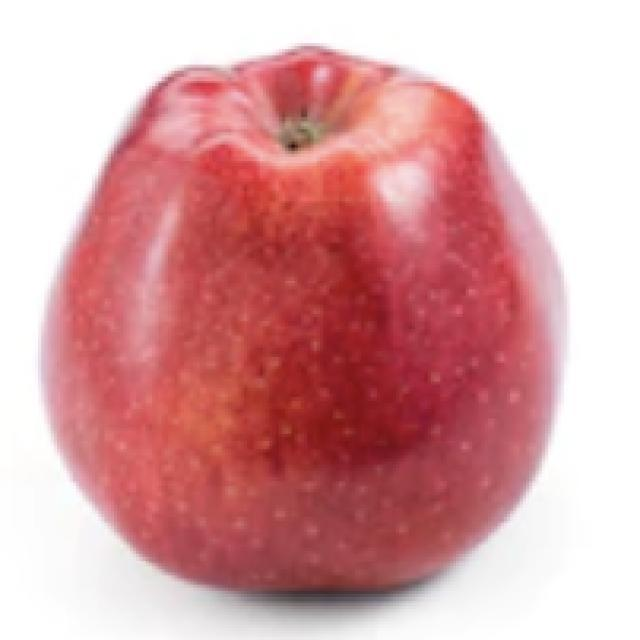Fresh Apple: (85, 65, 552, 608)
